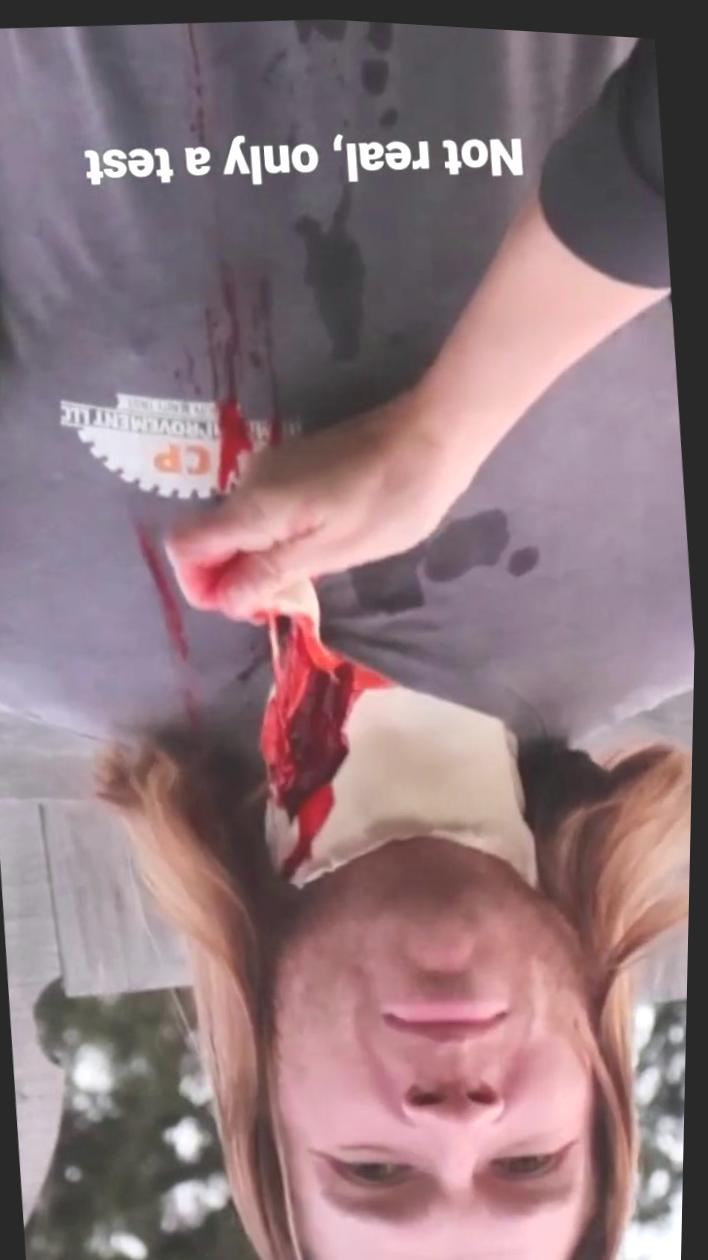Fire: (265, 609, 396, 873), (205, 258, 288, 488), (137, 518, 192, 661), (184, 20, 211, 166)
